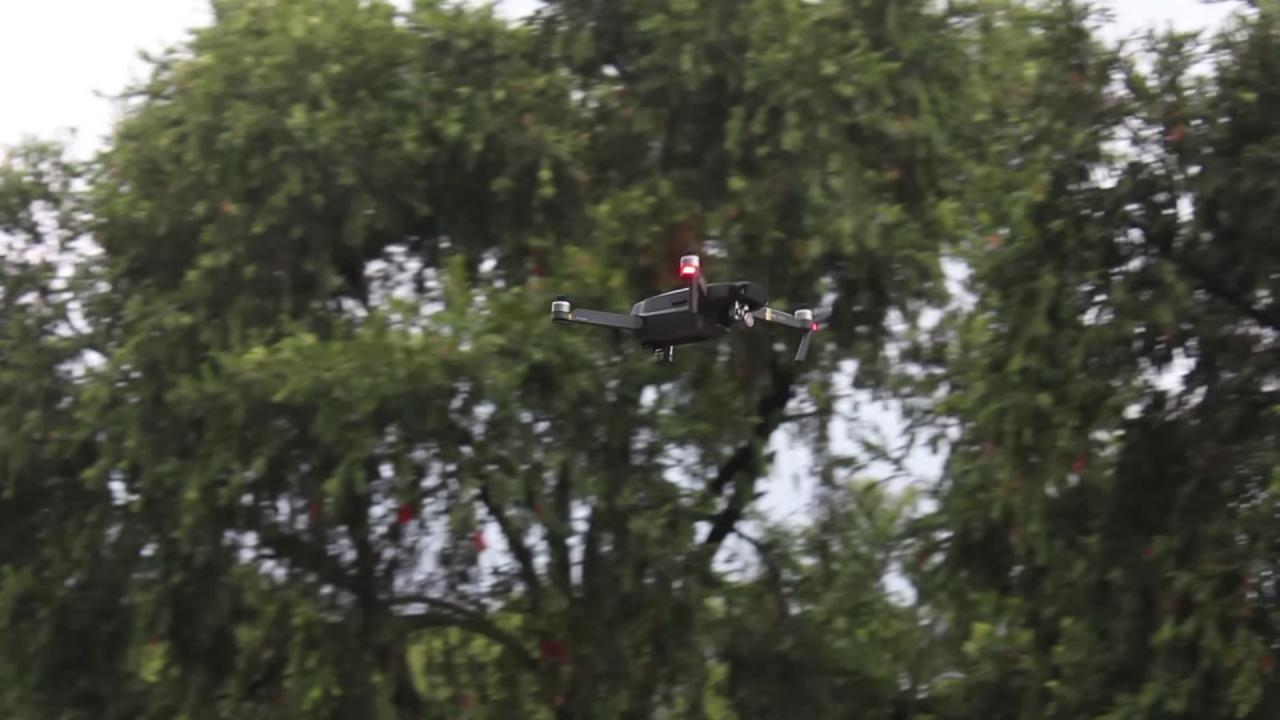Drone: (529, 233, 845, 379)
